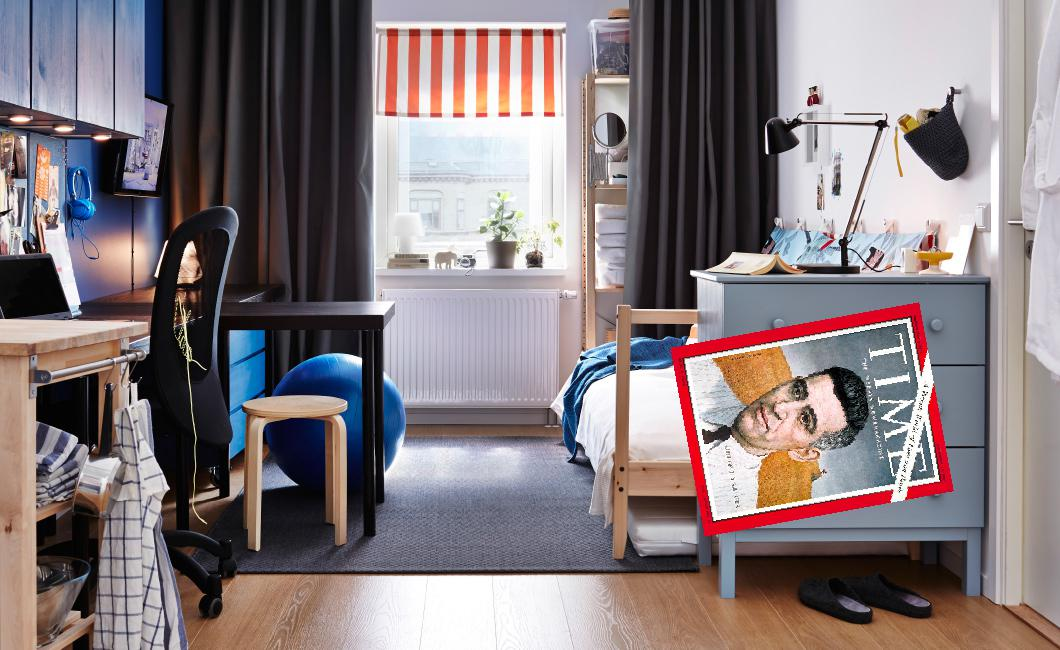times: (669, 302, 956, 543)
